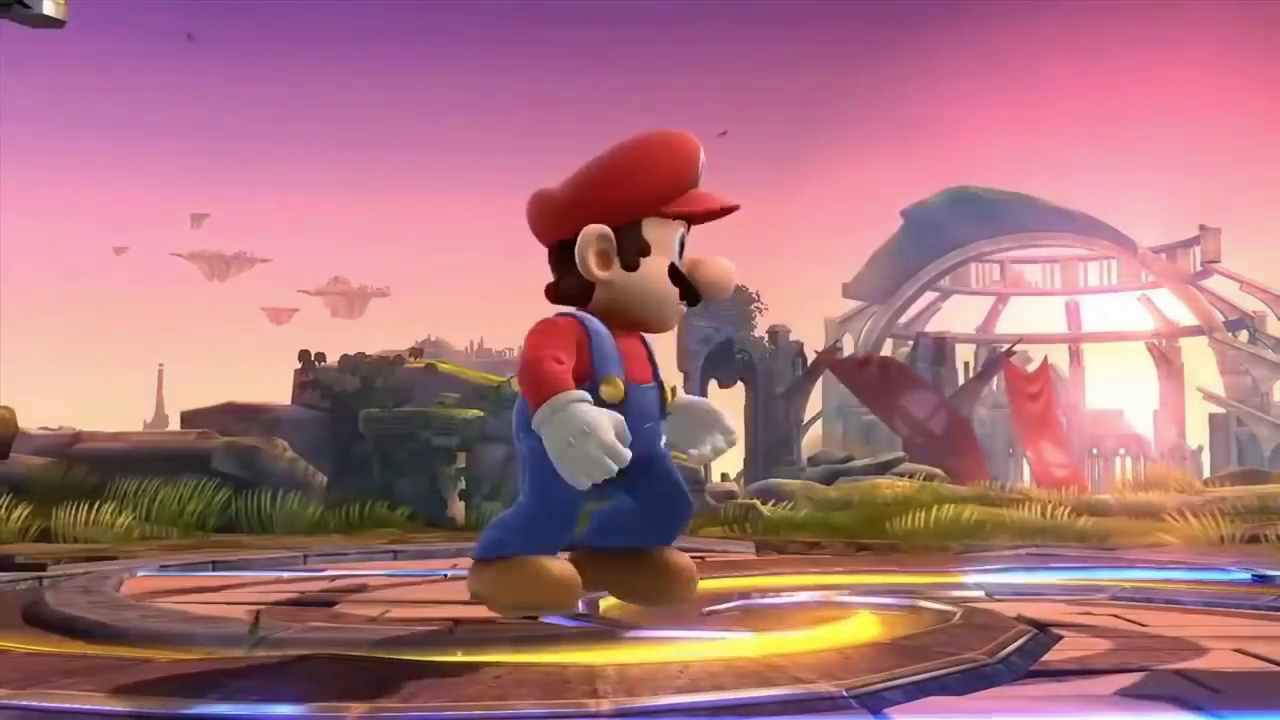Mario: (468, 133, 742, 612)
